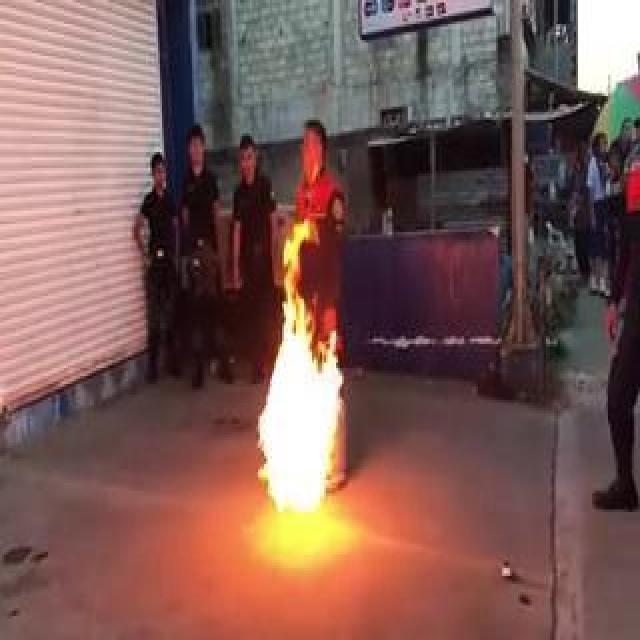Fire: (253, 226, 351, 514)
